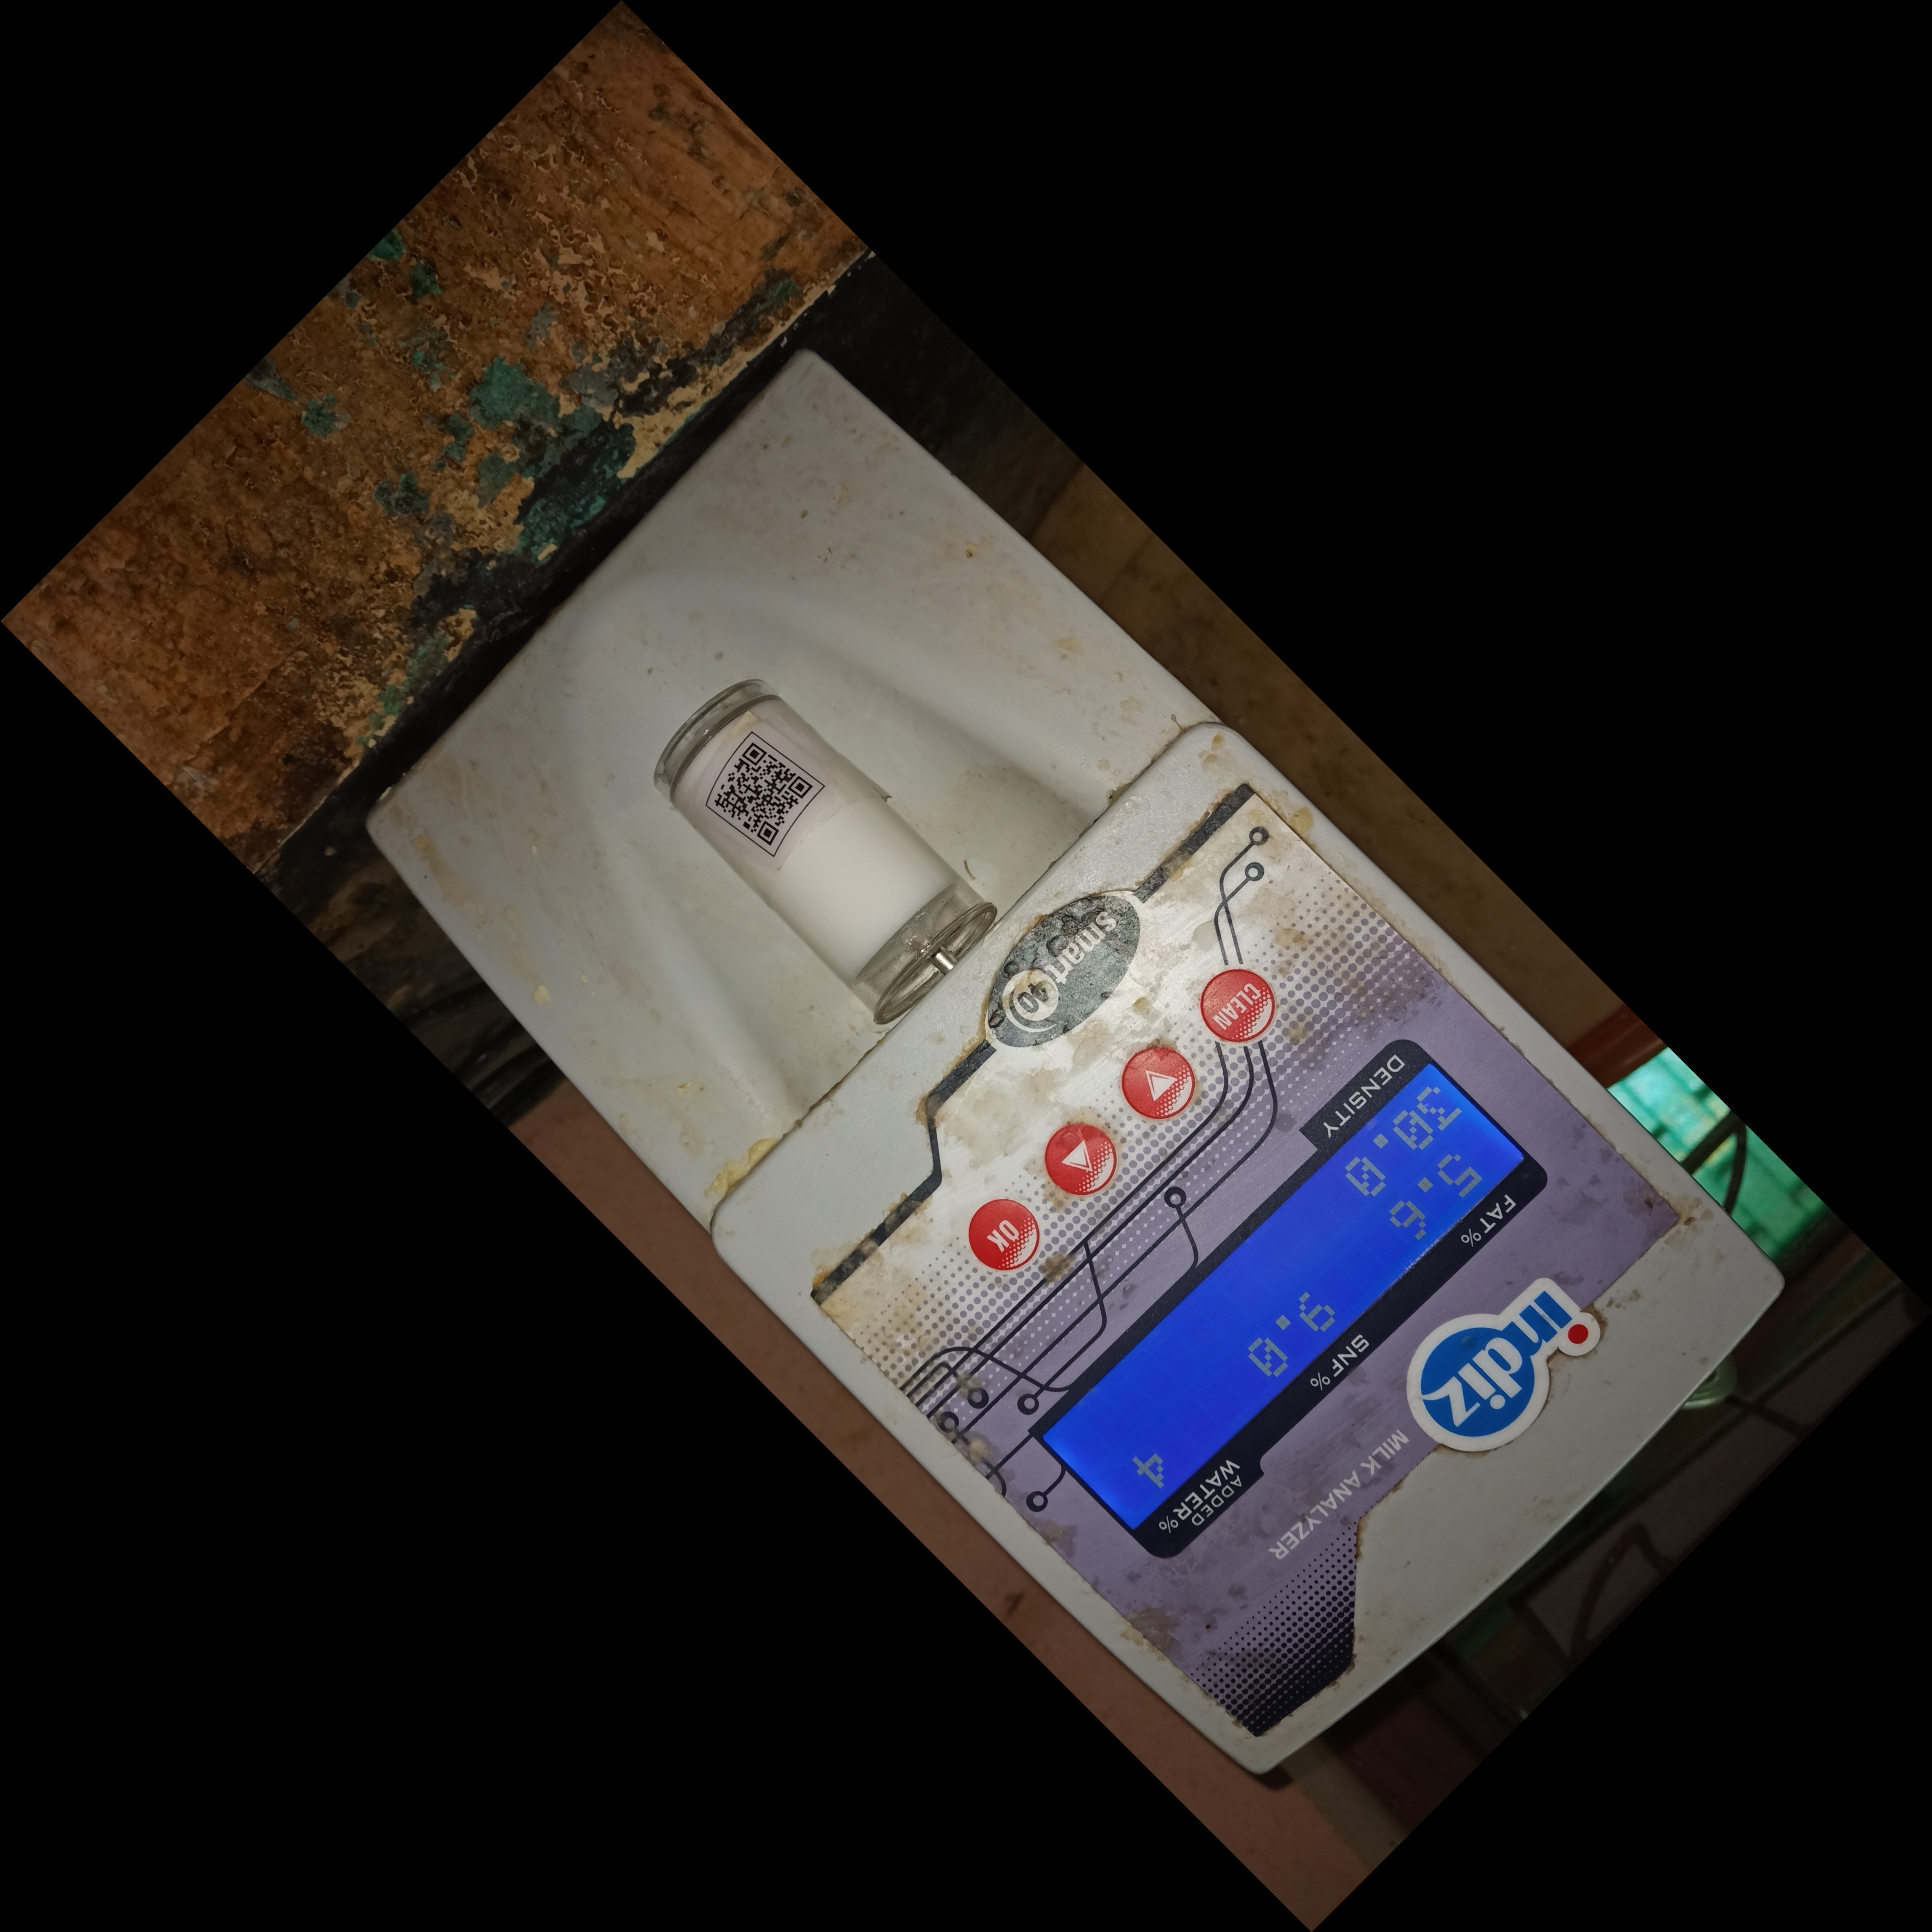lcd: (1001, 1024, 1534, 1569)
qr: (704, 718, 830, 865)
